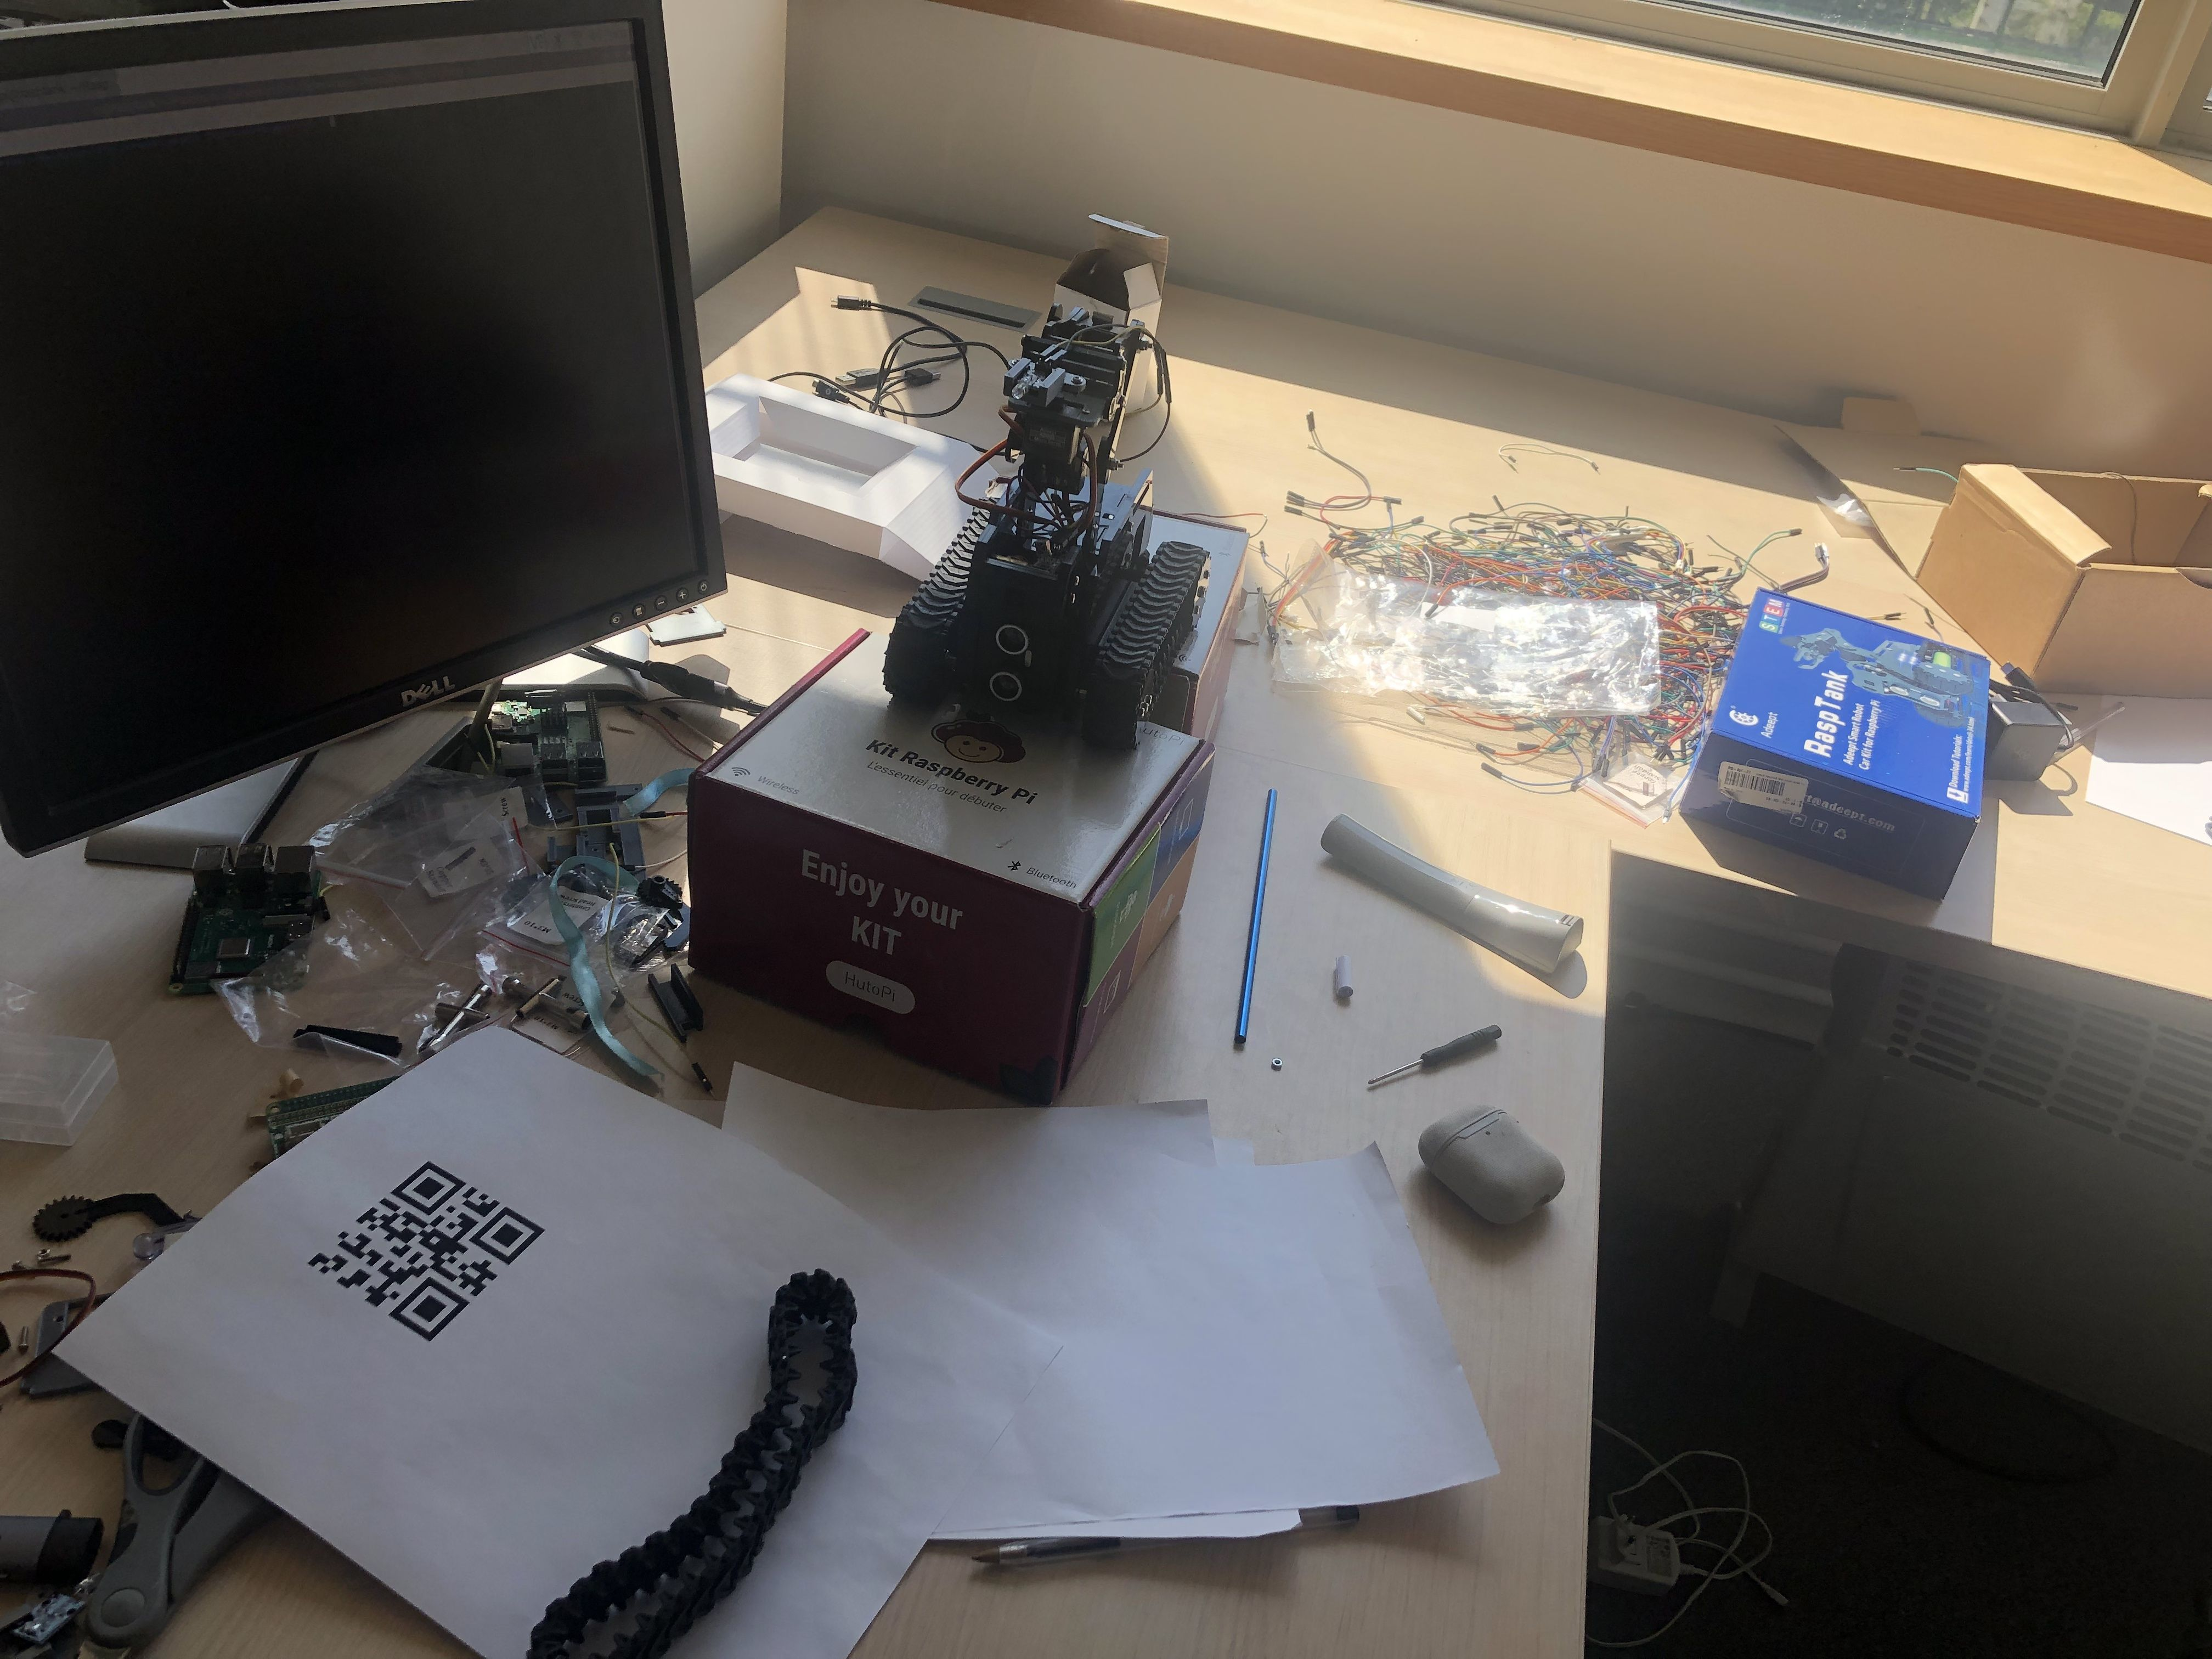rasptank: (887, 298, 1200, 784)
